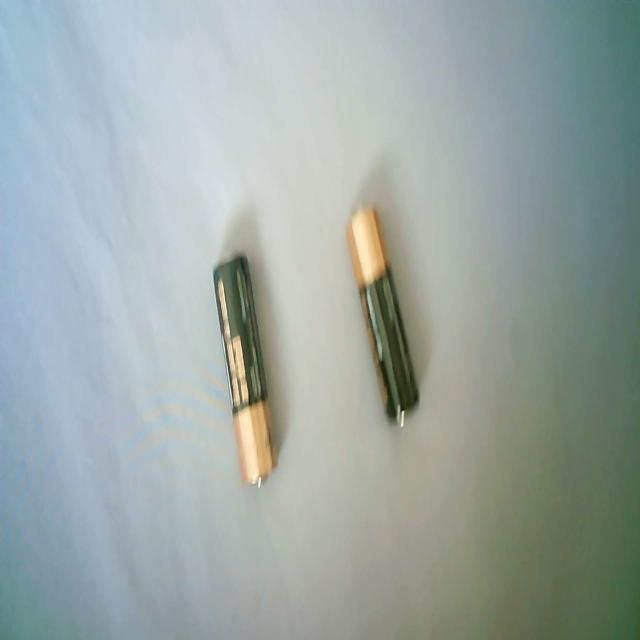AA: (345, 203, 420, 428), (212, 253, 274, 488)
